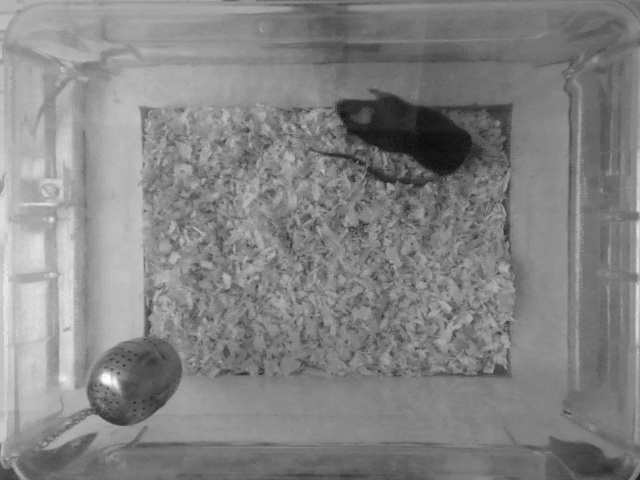mice: (300, 85, 482, 187)
